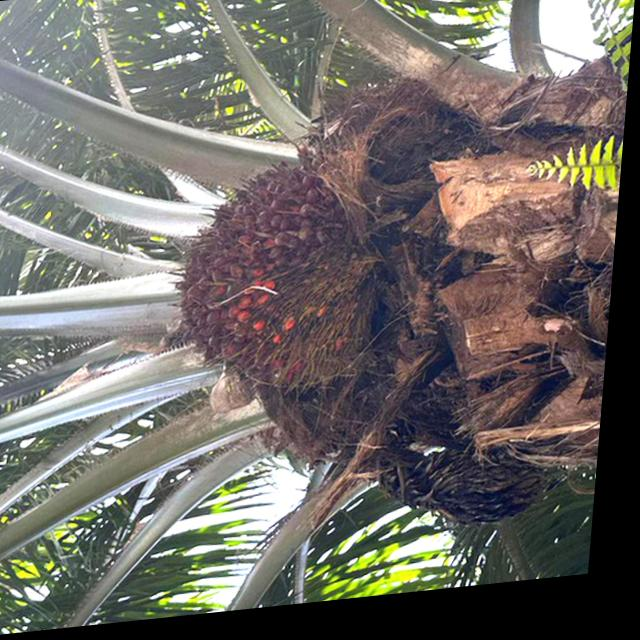ripe: (168, 155, 383, 406)
